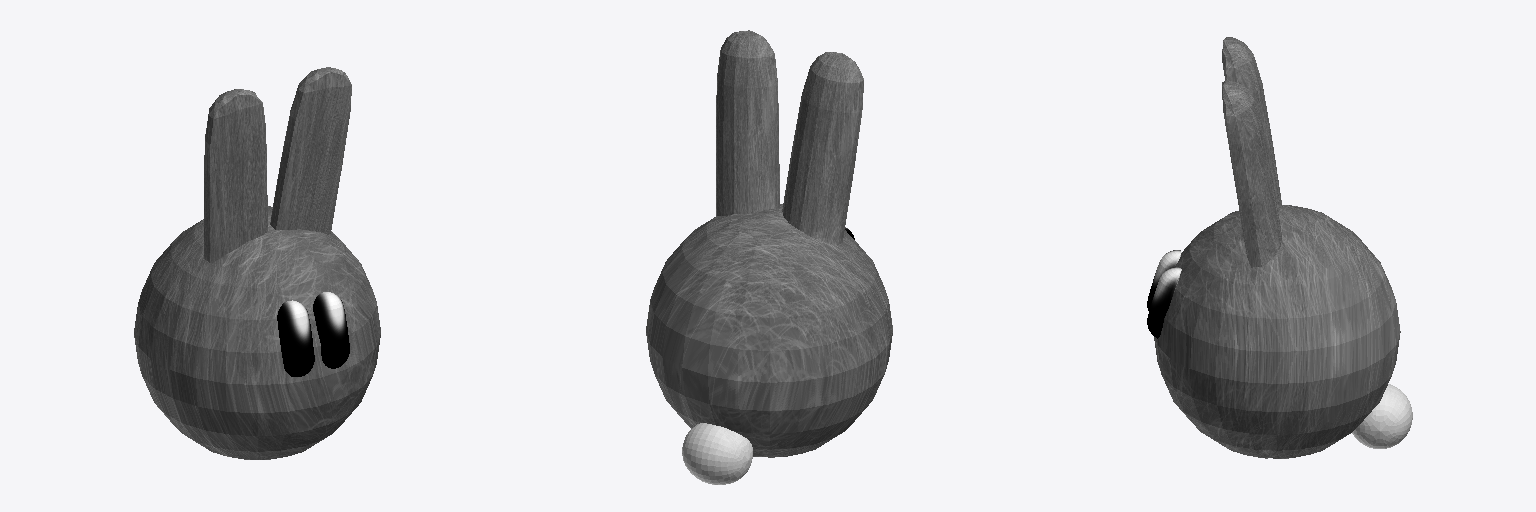
3 views of the same model, side by side, from view 1: azimuth 30°, elevation 25°; view 2: azimuth 150°, elevation 25°; view 3: azimuth 270°, elevation 25° (orthographic).
Parts seen in each view (by area): view 1: Sphere001; view 2: Sphere001; view 3: Sphere001.
Part boxes in pixels (left/top/right/bottom): Sphere001: left=134, top=67, right=380, bottom=459; Sphere001: left=646, top=30, right=892, bottom=484; Sphere001: left=1147, top=37, right=1412, bottom=458.
Bounding box in the file's own units: 18.68 × 32.26 × 20.07.
Materials: 1 (1 with a texture image).